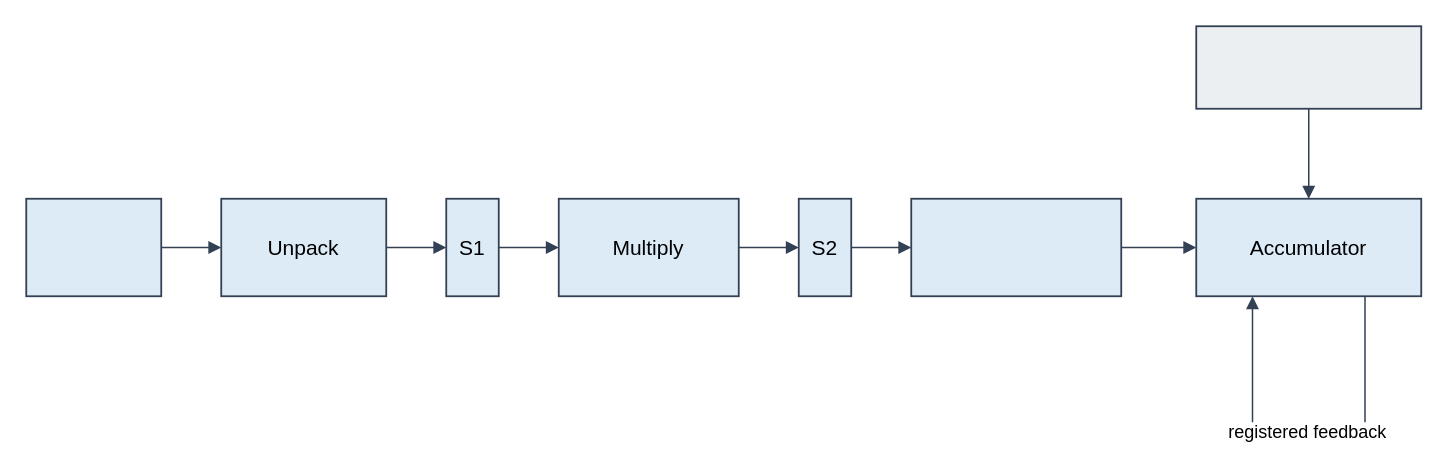
The diagram is 1449 pixels wide and 471 high, and some of its shapes have lost their labels. Each missing label, with the centre of its shape:
A / B: the point at 93,246
Align / reduce: the point at 1015,246
C input: the point at 1308,67
